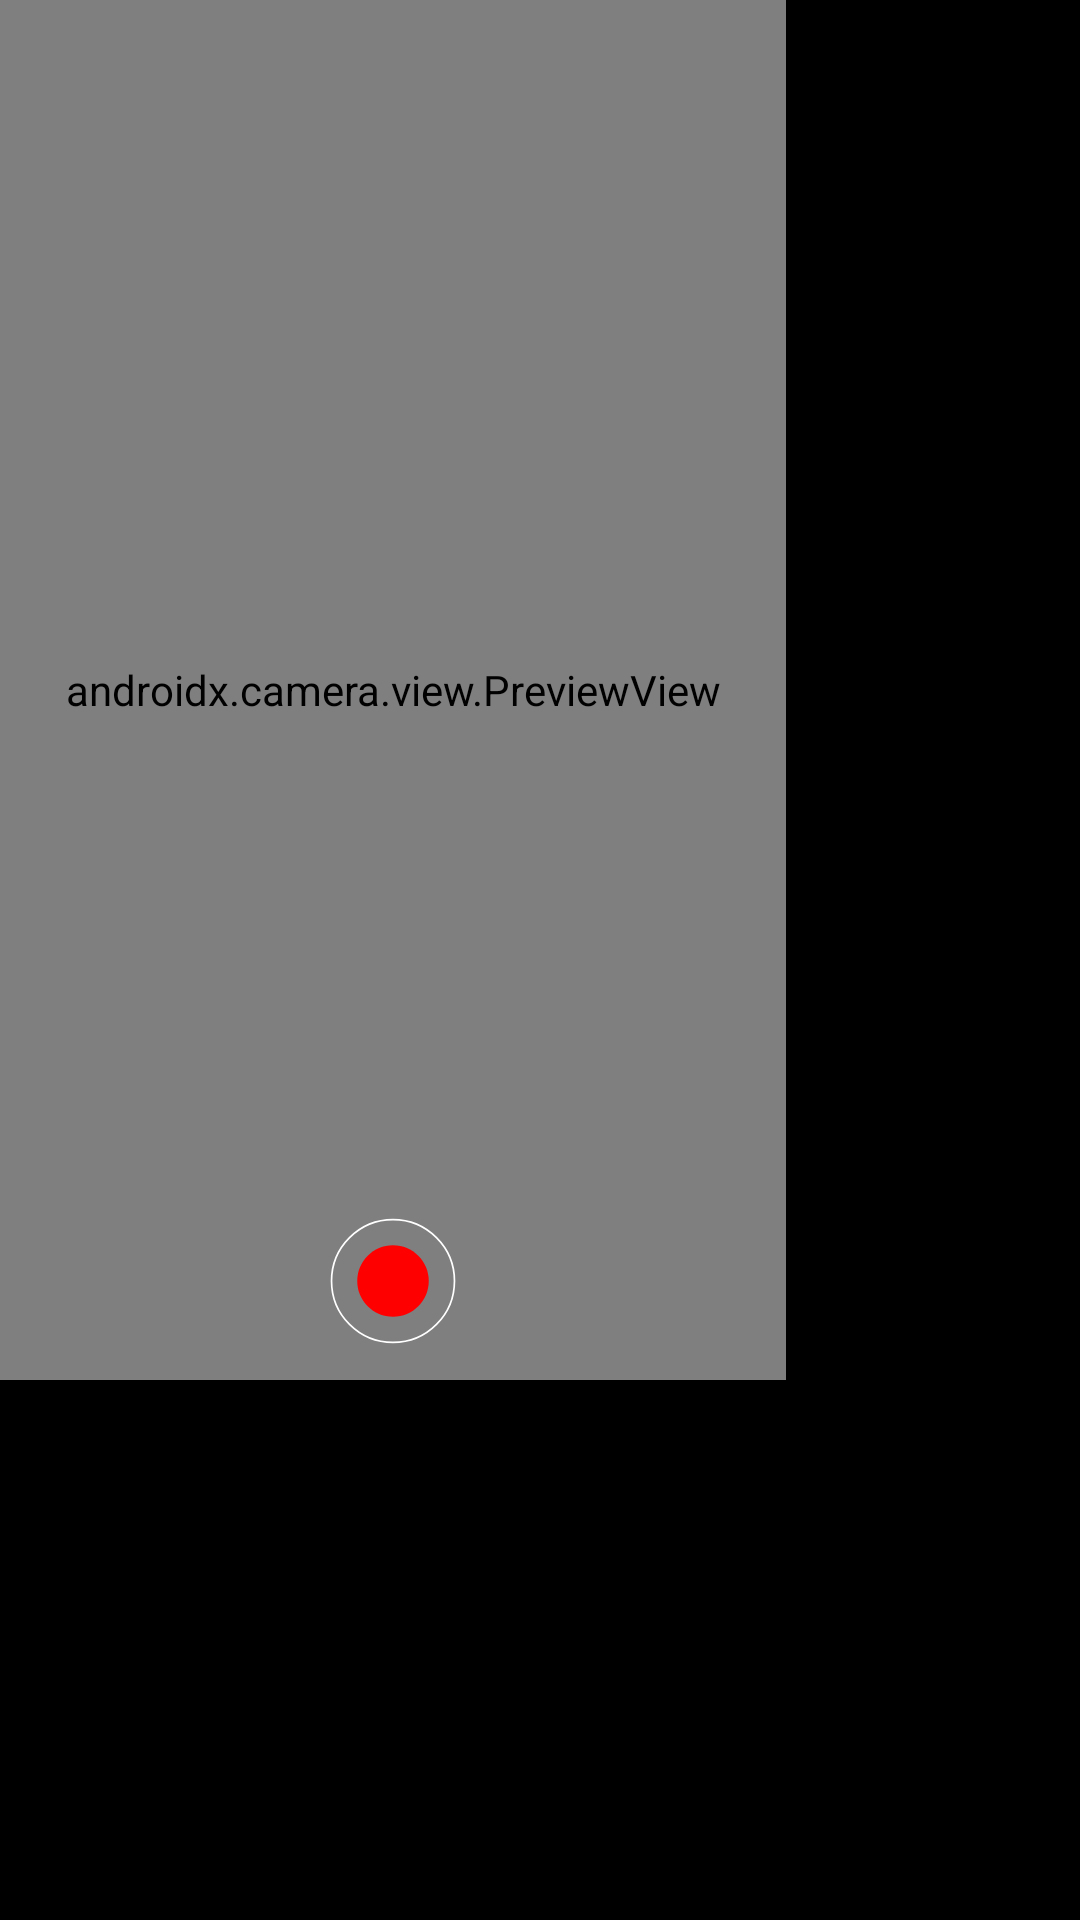

Icon click points for this 1080px x 1920px phone screenshot, format (x=x, y=y):
Capture: (x=393, y=1281)
